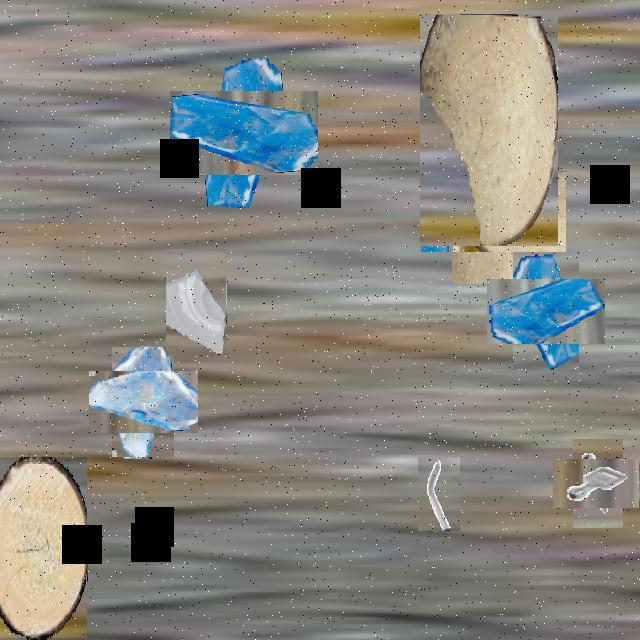glass: (186, 75, 302, 192), (436, 154, 550, 268), (500, 265, 592, 357), (100, 359, 186, 445), (166, 249, 226, 355)
metal: (563, 449, 633, 518), (418, 457, 460, 531)
wood: (420, 14, 558, 246), (0, 457, 87, 638)
